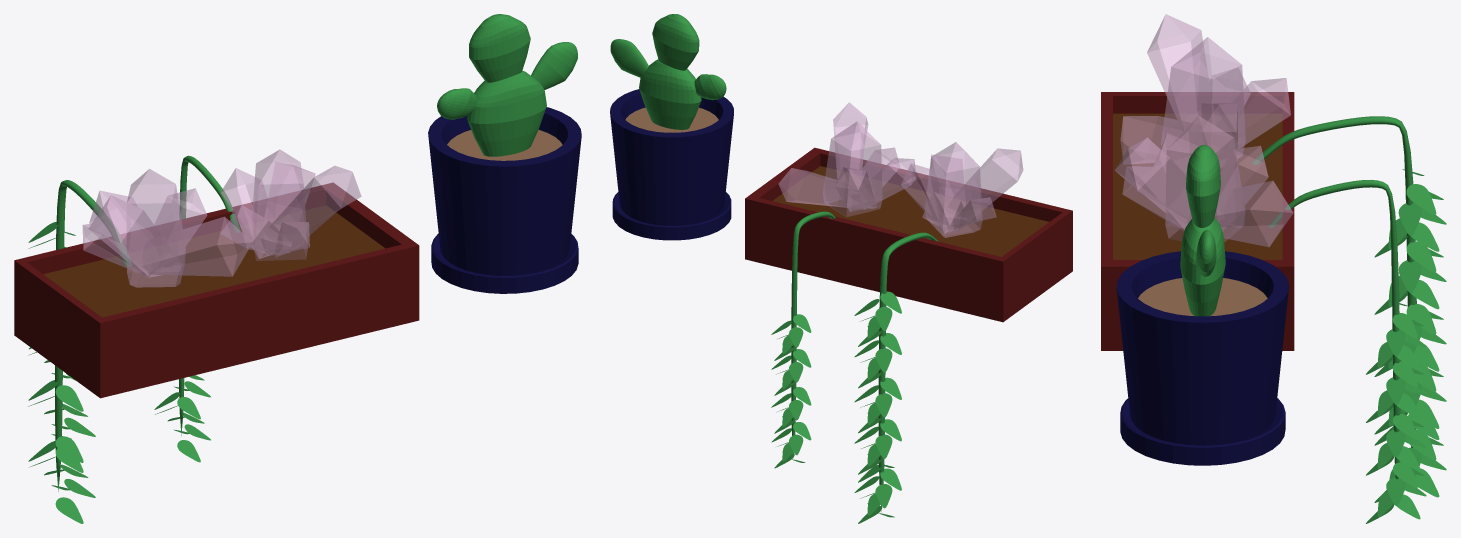
The model's file is ItensPlateleira.fbx.
The picture shows the model from 3 angles, left to right: view 1: azimuth 30°, elevation 25°; view 2: azimuth 150°, elevation 25°; view 3: azimuth 270°, elevation 25°; orthographic projection. The views are drawn at different scales.
Parts seen in each view (by area): view 1: Горшок прямоуг, Горшок, Кристалл.004, Кактус.001, Кристалл.003, растение.001; view 2: Горшок прямоуг, Горшок, растение.001, Кристалл.003, Кристалл.004, Кактус.001; view 3: Горшок прямоуг, Горшок, растение.001, Кристалл.004, Кристалл.003, Кактус.001.
Part boxes in pixels (x1,y1,x2,y2): Горшок прямоуг: [14, 182, 419, 398]; Горшок: [428, 107, 581, 293]; Кристалл.004: [82, 169, 252, 287]; Кактус.001: [437, 14, 577, 156]; Кристалл.003: [220, 149, 361, 260]; растение.001: [28, 155, 240, 523]; Горшок прямоуг: [745, 147, 1072, 322]; Горшок: [610, 89, 733, 240]; растение.001: [771, 211, 938, 523]; Кристалл.003: [778, 102, 916, 217]; Кристалл.004: [901, 142, 1023, 237]; Кактус.001: [610, 14, 726, 129]; Горшок прямоуг: [1101, 92, 1294, 350]; Горшок: [1116, 251, 1289, 465]; растение.001: [1252, 116, 1446, 523]; Кристалл.004: [1120, 14, 1290, 168]; Кристалл.003: [1115, 116, 1293, 247]; Кактус.001: [1180, 145, 1225, 316].
Size of the model in its own units: 39.01 by 34.31 by 19.86.
